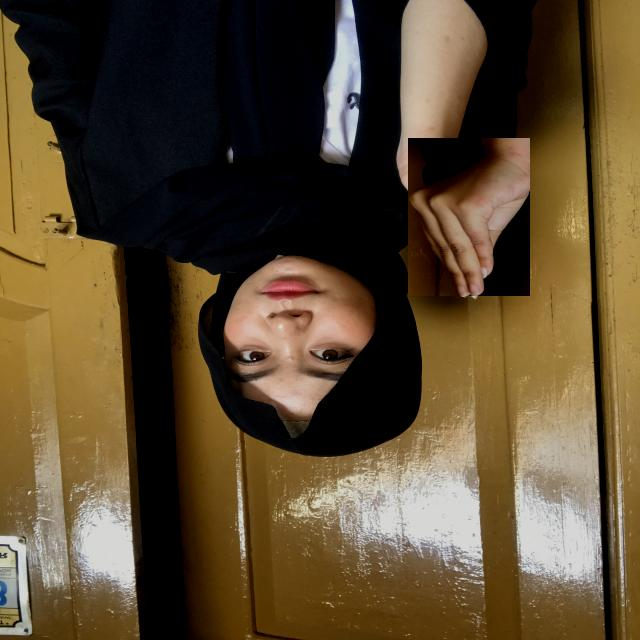kapan: (408, 138, 530, 296)
